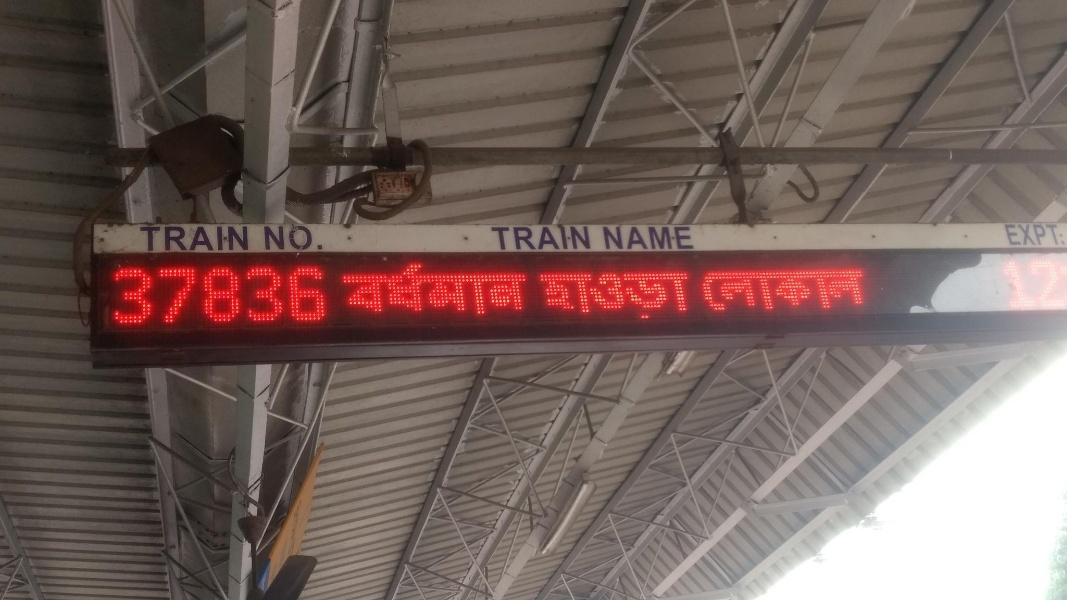text: (113, 261, 128, 334), (129, 261, 144, 334), (145, 261, 160, 334), (161, 261, 176, 334), (177, 261, 192, 334), (193, 261, 208, 334), (209, 261, 224, 334), (225, 261, 240, 334), (241, 261, 256, 334), (257, 261, 272, 334), (273, 261, 288, 334), (289, 261, 304, 334), (305, 261, 320, 334), (337, 258, 352, 324), (353, 258, 368, 324), (369, 258, 384, 324), (385, 258, 400, 324), (401, 258, 416, 324), (417, 258, 432, 324), (433, 258, 448, 324), (449, 258, 464, 324), (465, 258, 480, 324), (481, 258, 496, 324), (497, 258, 512, 324), (513, 258, 528, 324), (1009, 253, 1024, 314), (1025, 253, 1040, 314), (1041, 253, 1056, 314), (321, 261, 333, 334), (545, 266, 560, 321), (561, 266, 576, 321), (577, 266, 592, 321), (593, 266, 608, 321), (609, 266, 624, 321), (625, 266, 640, 321), (641, 266, 656, 321), (657, 266, 672, 321), (673, 266, 688, 321), (705, 269, 720, 312), (721, 269, 736, 312), (737, 269, 752, 312), (753, 269, 768, 312), (769, 269, 784, 312), (785, 269, 800, 312), (801, 269, 816, 312), (817, 269, 832, 312), (833, 269, 848, 312), (849, 269, 864, 312), (998, 253, 1008, 314), (529, 258, 538, 324), (689, 266, 699, 321), (273, 222, 288, 257), (289, 222, 304, 257), (305, 222, 320, 257), (497, 222, 512, 255), (513, 222, 528, 255), (529, 222, 544, 255), (545, 222, 560, 255), (561, 222, 576, 255), (577, 222, 592, 255), (1057, 253, 1065, 314), (145, 223, 160, 255), (161, 223, 176, 255), (177, 223, 192, 255), (193, 223, 208, 255), (209, 223, 224, 255), (225, 223, 240, 255), (1009, 220, 1024, 252), (1025, 220, 1040, 252), (1041, 220, 1056, 252), (609, 223, 624, 253), (625, 223, 640, 253), (641, 223, 656, 253), (657, 223, 672, 253), (673, 223, 688, 253), (537, 266, 544, 321), (107, 261, 112, 334), (689, 223, 701, 253), (241, 223, 252, 255), (262, 222, 272, 257), (998, 220, 1008, 252), (598, 223, 608, 253), (487, 222, 496, 255), (1057, 220, 1066, 252), (136, 223, 144, 255), (699, 269, 704, 312), (865, 269, 870, 312), (321, 222, 326, 257), (593, 222, 597, 255)
